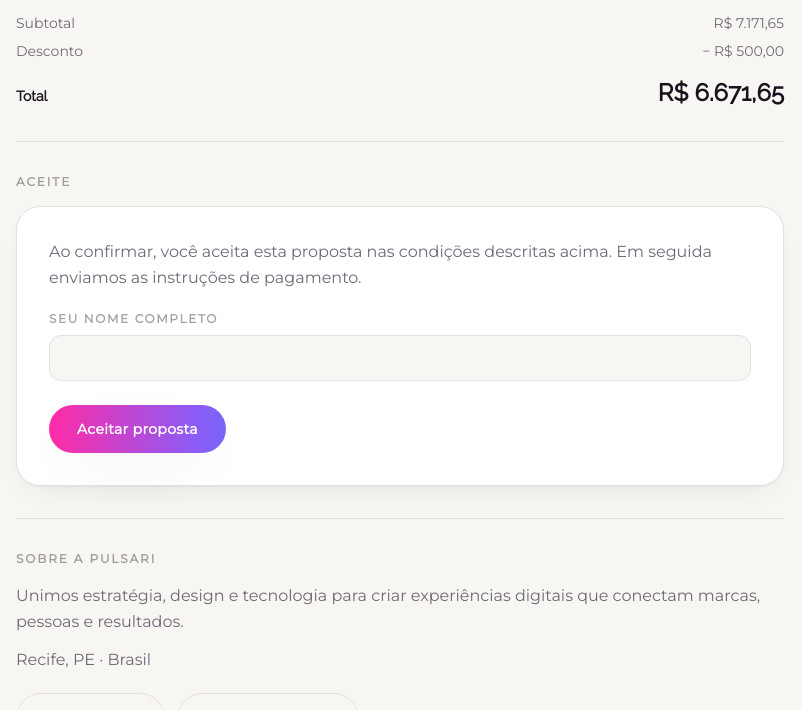
aceite › mostra o erro devolvido pela API sem inventar mensagem
(page scrolled)
Type "Fulano" into the field labelled "Seu nome completo" at coordinates (400, 358), box [49,335,751,381]
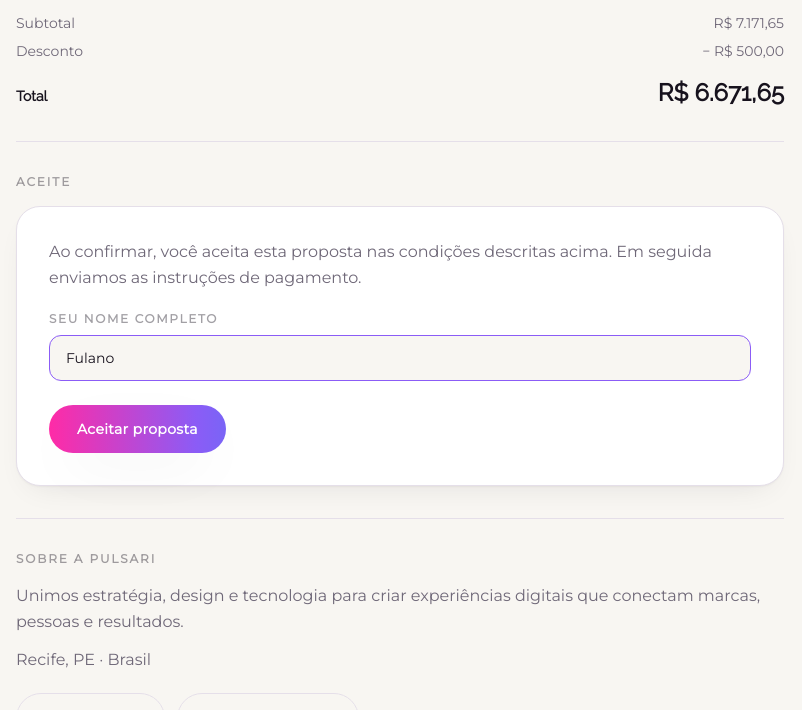
Click the button "Aceitar proposta" at coordinates (137, 429), box [49,405,226,453]
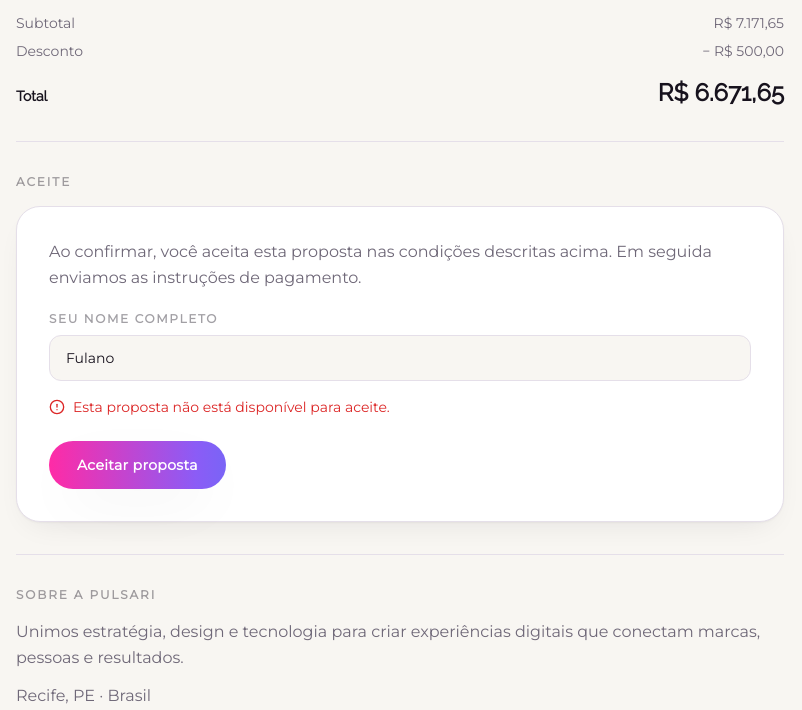
Check: the message shows "não está disponível", box [73,398,390,416]
